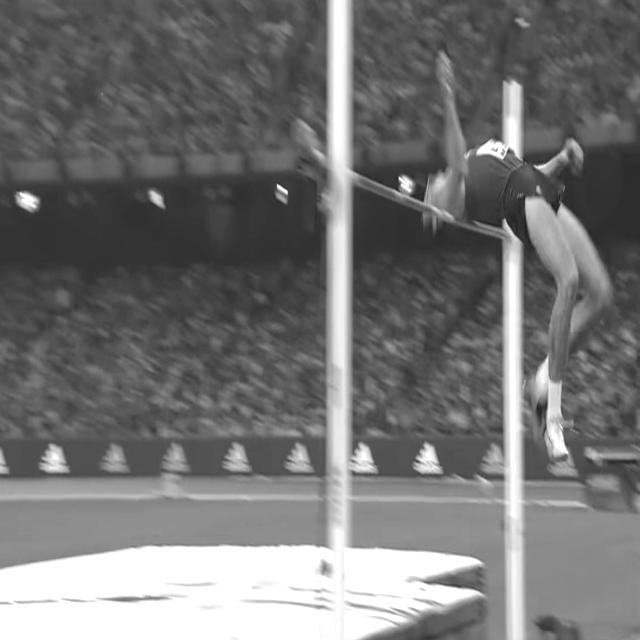jump: (423, 52, 611, 462)
